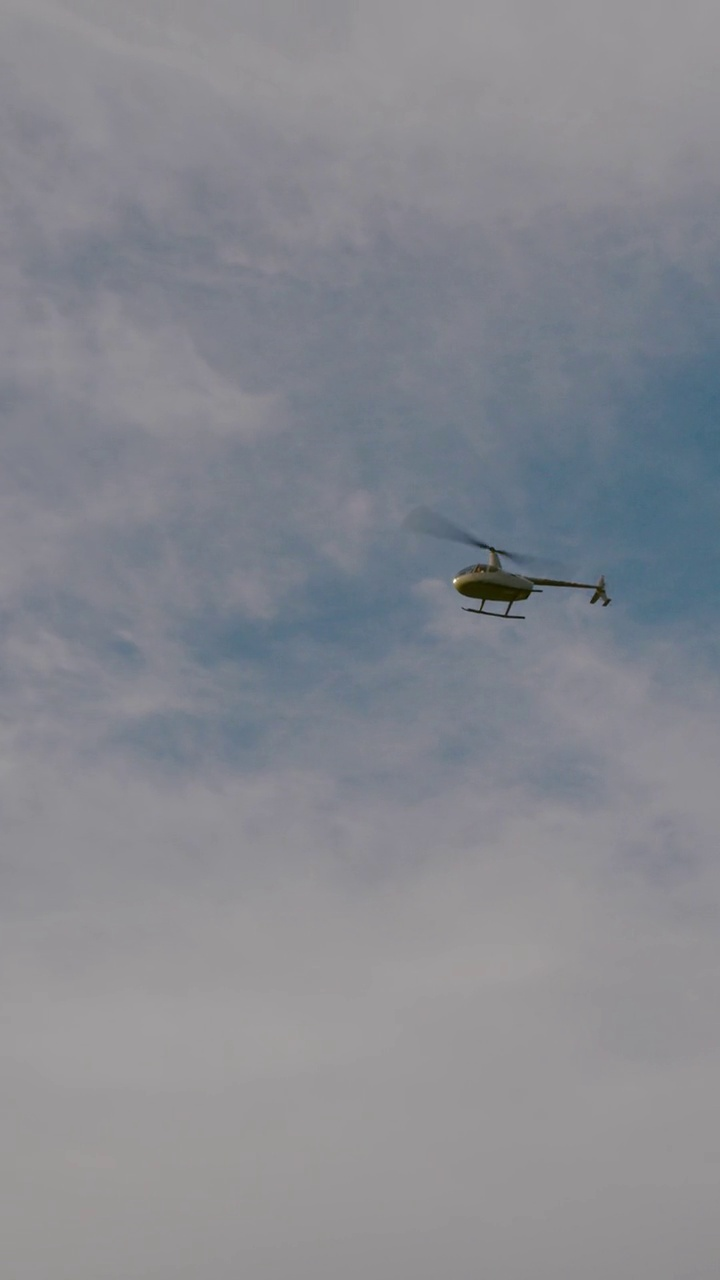heli: (410, 503, 613, 623)
